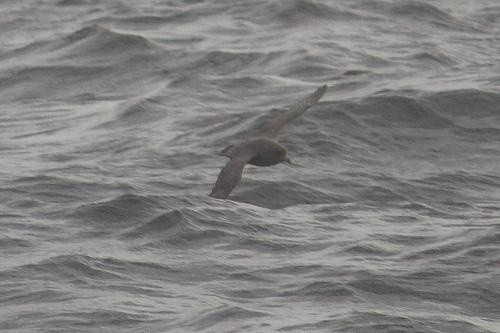bird: (202, 81, 333, 202)
